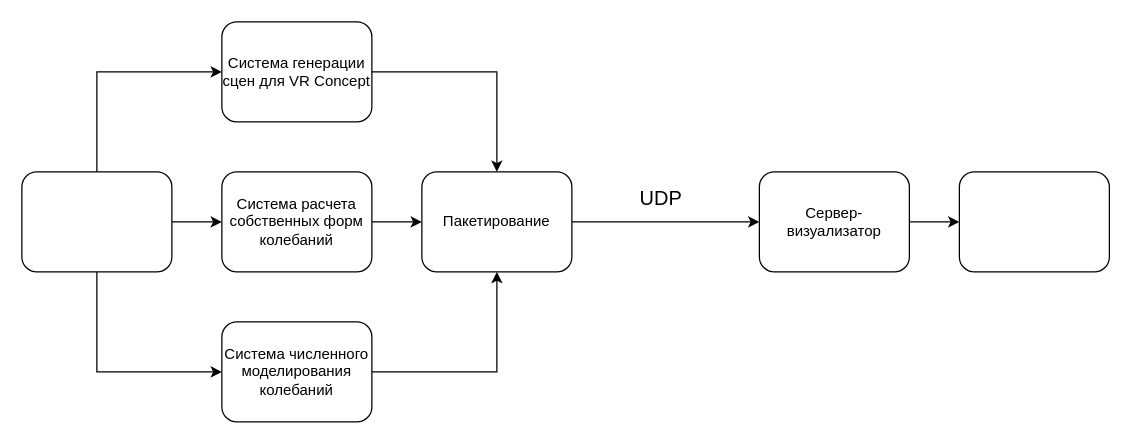
Some shapes in this 1131 by 444 pixel diagram are drawn without their labels. Here are the shapes that lost their labels. From the top down, the centre of each, then its label:
At (x=96, y=221): "Пользовательский графический интерфейс (GUI)".
At (x=1033, y=221): "Объекты колебательной системы".
